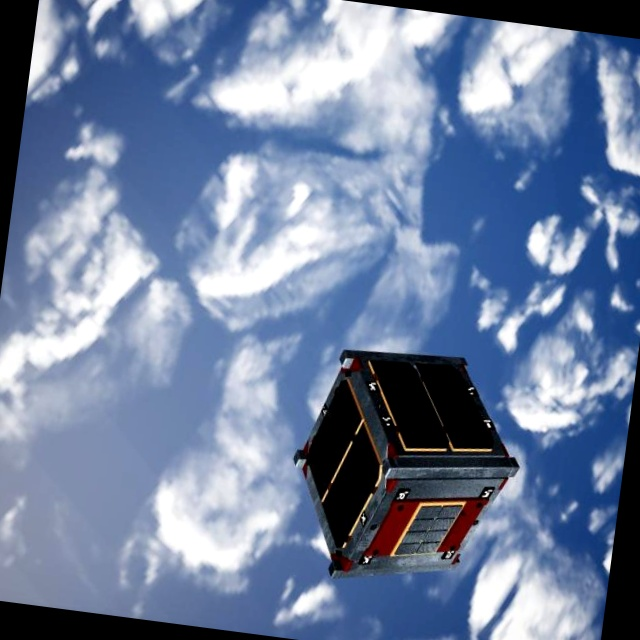satellite: (269, 329, 536, 609)
